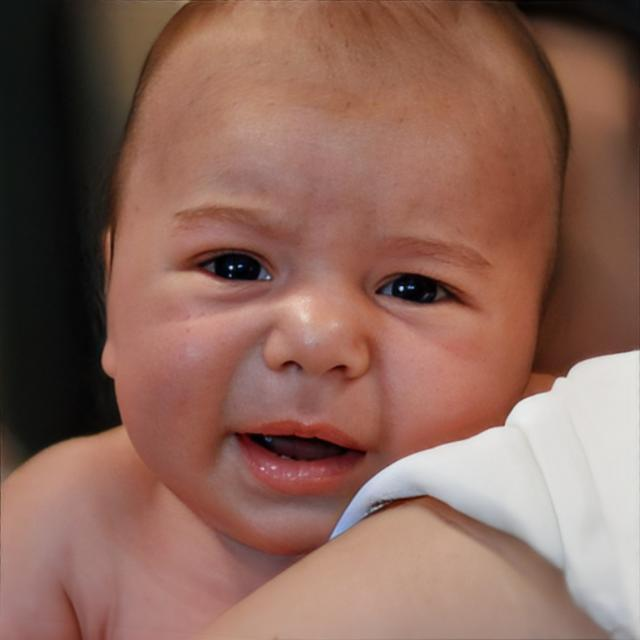sad: (108, 1, 568, 566)
